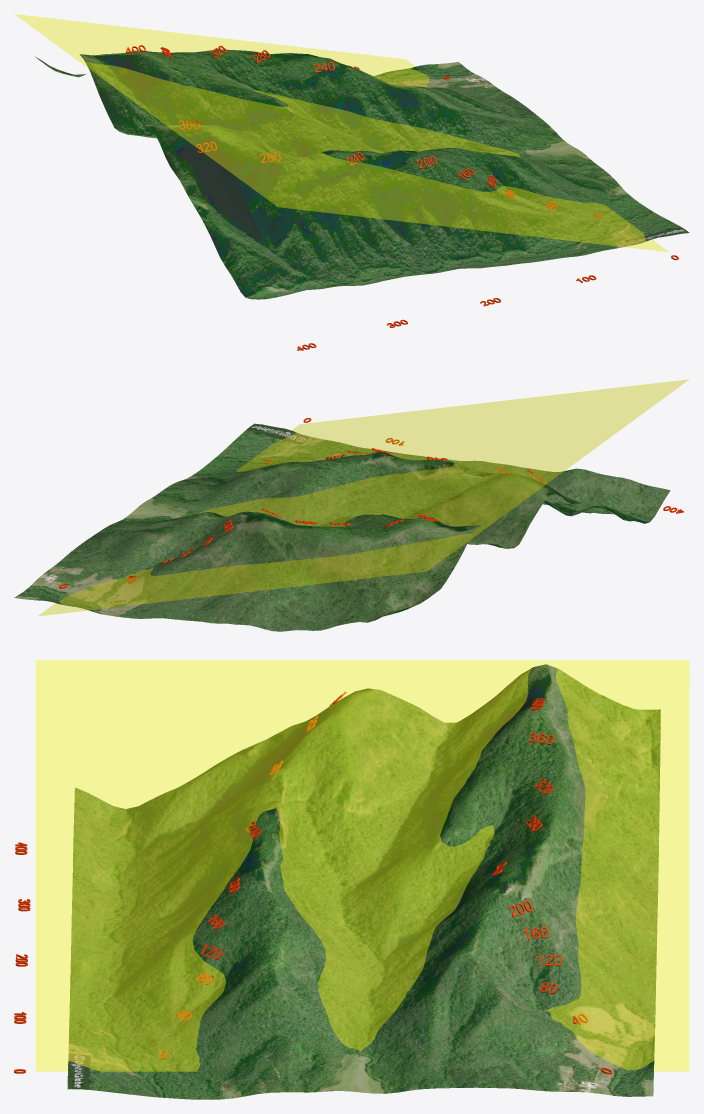
File: RioRastro2.glb
3 views of the same model, one above another, from view 1: azimuth 30°, elevation 25°; view 2: azimuth 150°, elevation 25°; view 3: azimuth 270°, elevation 25° (orthographic). The views are drawn at different scales.
Parts seen in each view (by area): view 1: Location Terrain, object 5, object 4; view 2: Location Terrain, object 5, object 4; view 3: Location Terrain, object 5, object 4.
Boxes of the visible parts, <box> form: Location Terrain: <box>35,49,689,299</box>; object 5: <box>15,14,668,251</box>; object 4: <box>125,45,602,217</box>; Location Terrain: <box>14,423,670,631</box>; object 5: <box>39,379,688,615</box>; object 4: <box>59,448,548,588</box>; Location Terrain: <box>67,664,660,1099</box>; object 5: <box>36,660,689,1071</box>; object 4: <box>159,692,611,1074</box>.
Bounding box in the file's own units: 2041 × 668 × 2243.
Materials: 4 (1 with a texture image).
